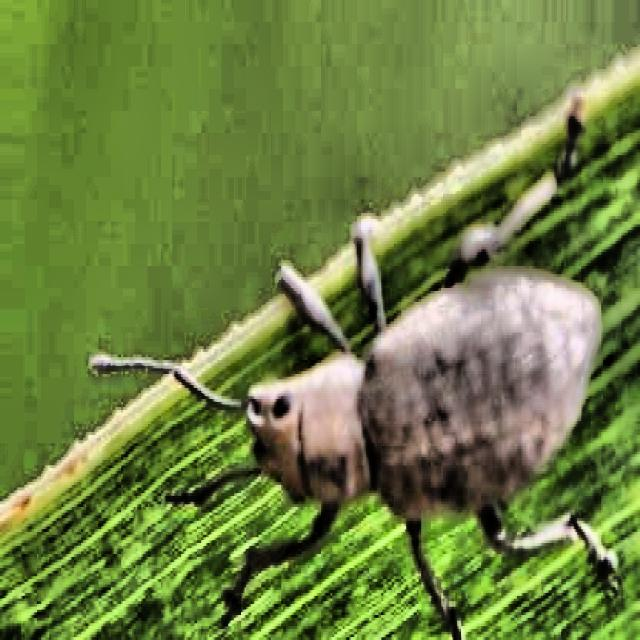Stink bug: (125, 130, 616, 607)
